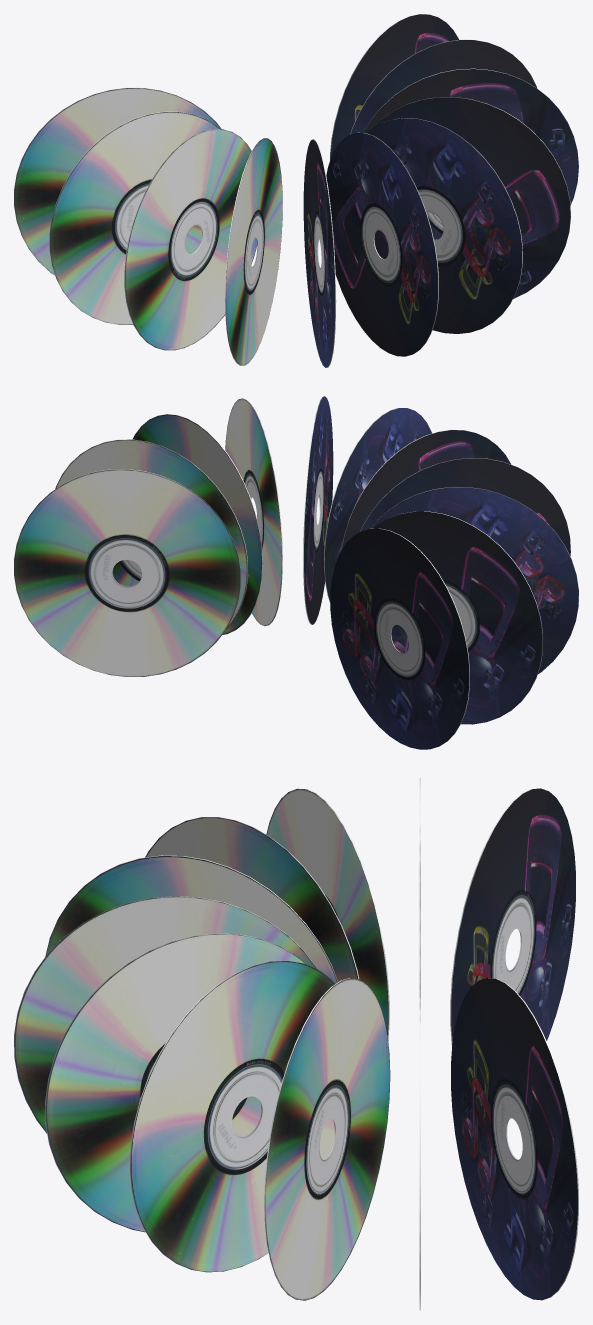
The model's file is CDs.obj.
3 views of the same model, one above another, from view 1: azimuth 30°, elevation 25°; view 2: azimuth 150°, elevation 25°; view 3: azimuth 270°, elevation 25° (orthographic). The views are drawn at different scales.
Visible parts, largest first — view 1: cd; view 2: cd; view 3: cd.
Part boxes in pixels (left/top/right/bottom): cd: left=14, top=14, right=578, bottom=367; cd: left=14, top=396, right=578, bottom=749; cd: left=14, top=778, right=578, bottom=1310.
Bounding box in the file's own units: 0.1425 × 0.0574 × 0.0991.
